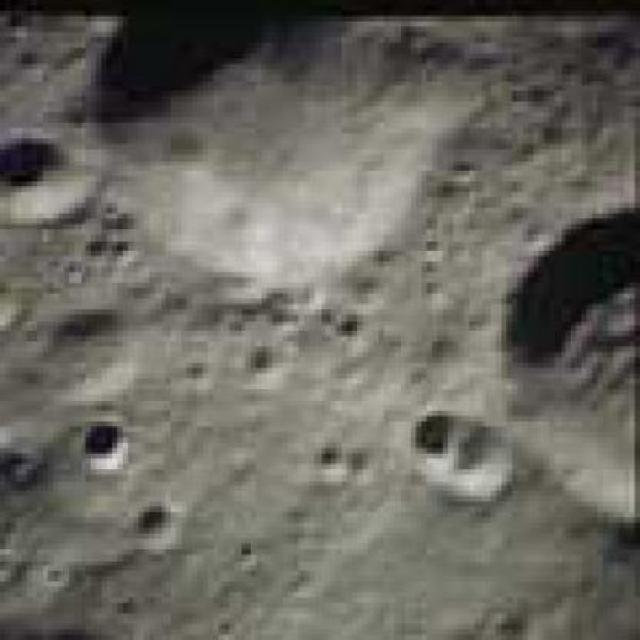crater: (95, 0, 477, 277), (512, 206, 638, 542), (0, 128, 100, 226), (416, 412, 512, 497), (85, 422, 129, 464)
